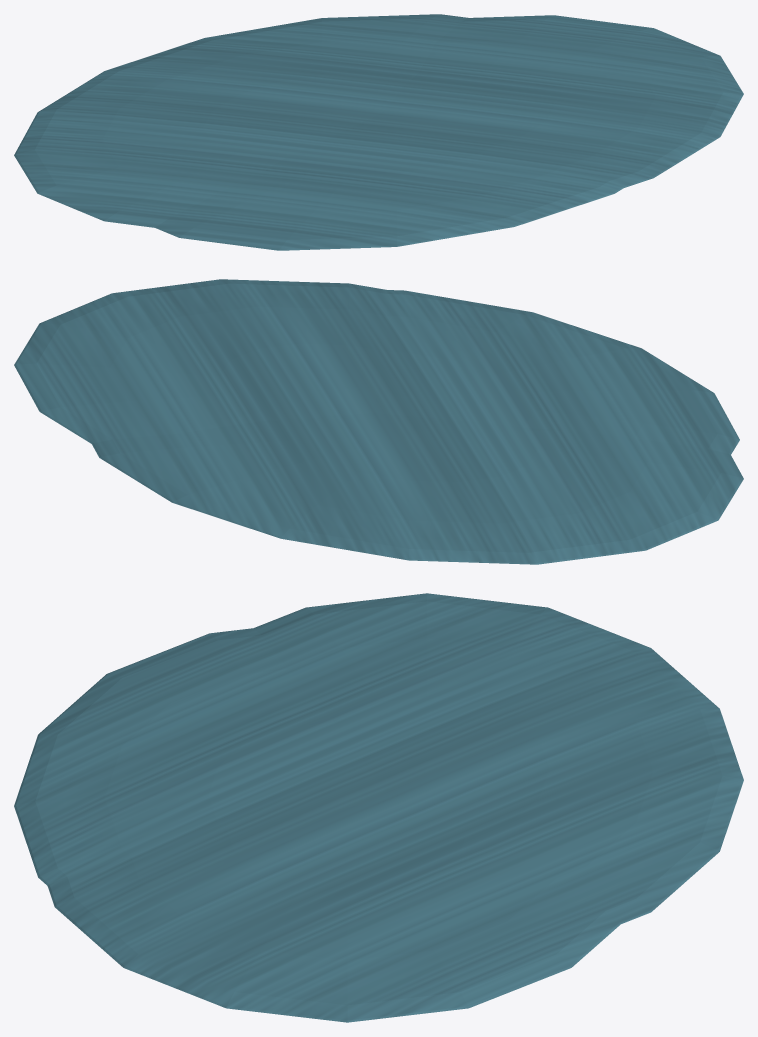
The model's file is PROP-6D5770ACF085_lod0.glb.
The picture shows the model from 3 angles, top to bottom: view 1: azimuth 30°, elevation 25°; view 2: azimuth 150°, elevation 25°; view 3: azimuth 270°, elevation 25°; orthographic projection. The views are drawn at different scales.
Visible parts, largest first — view 1: surface_hazard; view 2: surface_hazard; view 3: surface_hazard.
Part boxes in pixels (<box>): surface_hazard: <box>14,14,743,250</box>; surface_hazard: <box>14,279,743,564</box>; surface_hazard: <box>14,593,743,1022</box>.
Bounding box in the file's own units: 1.37 × 0.036 × 0.9812.
1 material, 1 textured.
